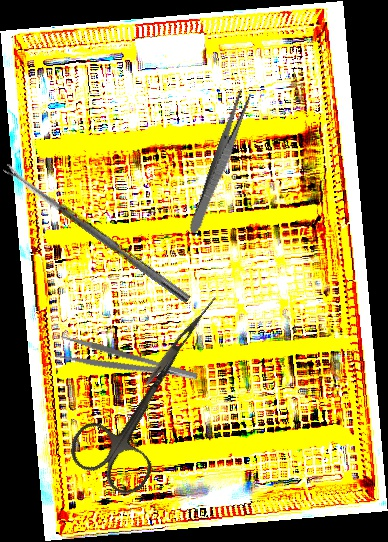Dressing Forceps: (187, 88, 254, 236), (55, 333, 199, 395), (142, 293, 220, 388)
Iris Scissors: (61, 322, 220, 502)
Surgical Spoon: (2, 162, 192, 304)
